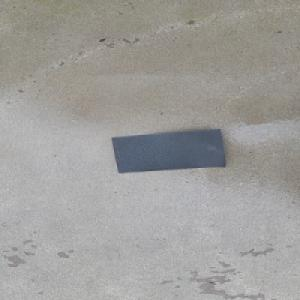PaintChip: (109, 127, 225, 173)
